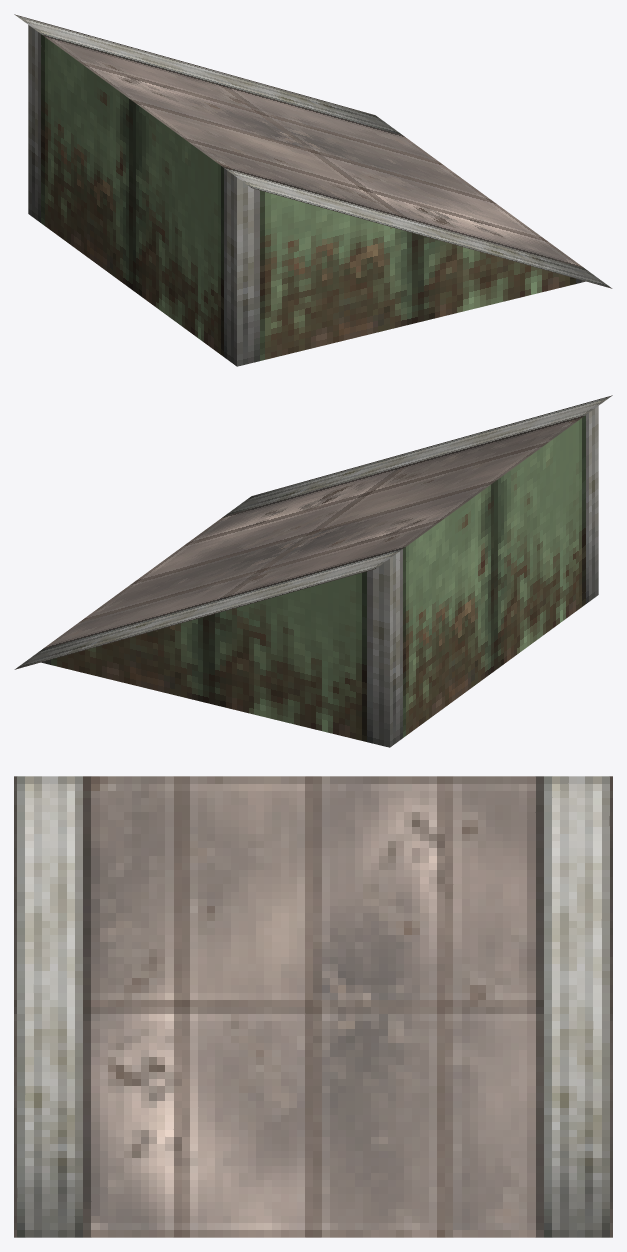
File: wallB_roofSlantDetailed.glb
3 views of the same model, one above another, from view 1: azimuth 30°, elevation 25°; view 2: azimuth 150°, elevation 25°; view 3: azimuth 270°, elevation 25° (orthographic). The views are drawn at different scales.
Parts seen in each view (by area): view 1: wallB_roofSlantDetailed; view 2: wallB_roofSlantDetailed; view 3: wallB_roofSlantDetailed.
Boxes of the visible parts, x1,y1,x2,y2 form: wallB_roofSlantDetailed: (14,14,612,366); wallB_roofSlantDetailed: (14,395,612,747); wallB_roofSlantDetailed: (14,776,612,1237).
Bounding box in the file's own units: 1 × 0.5 × 1.14.
Materials: 3 (3 with a texture image).
